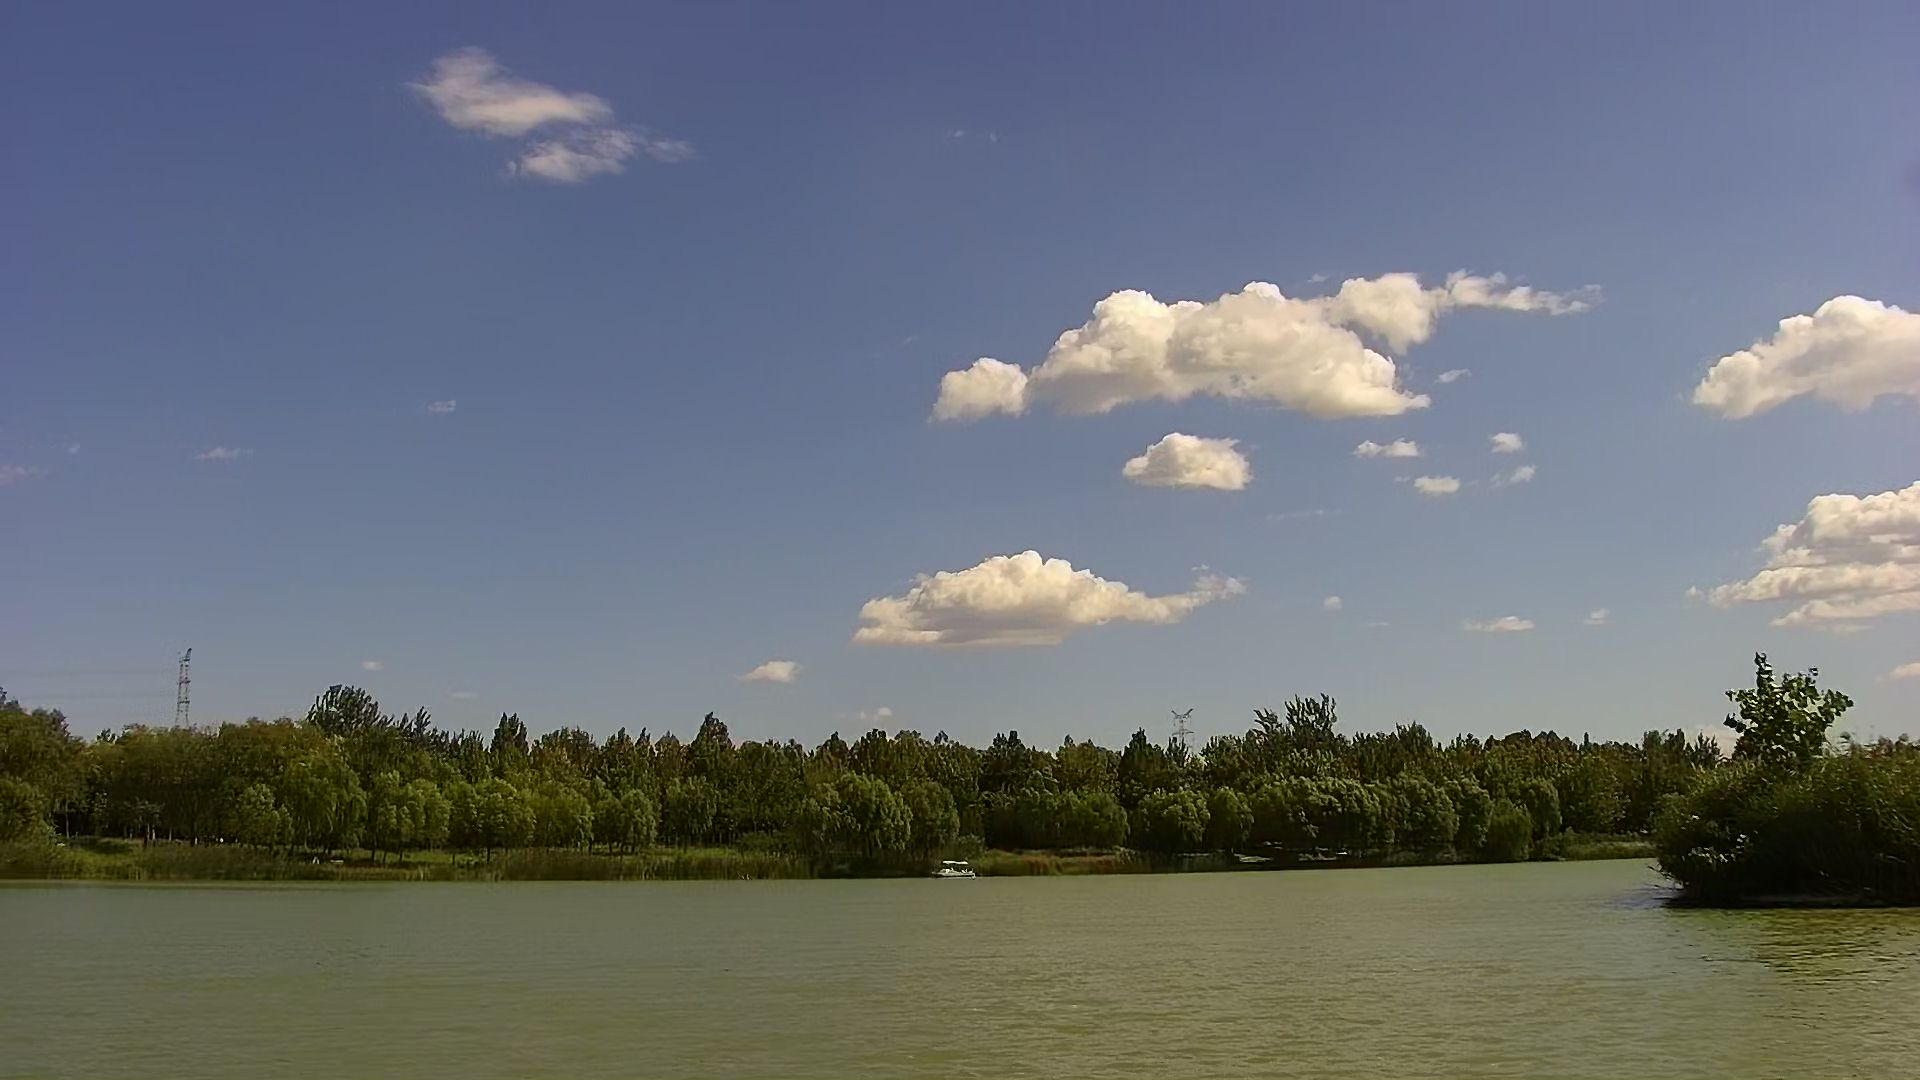boat: (934, 853, 975, 880)
